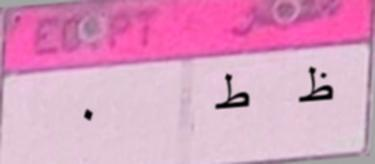0: (70, 96, 114, 136)
Taa: (210, 66, 258, 123)
Thaa: (293, 60, 334, 115)
